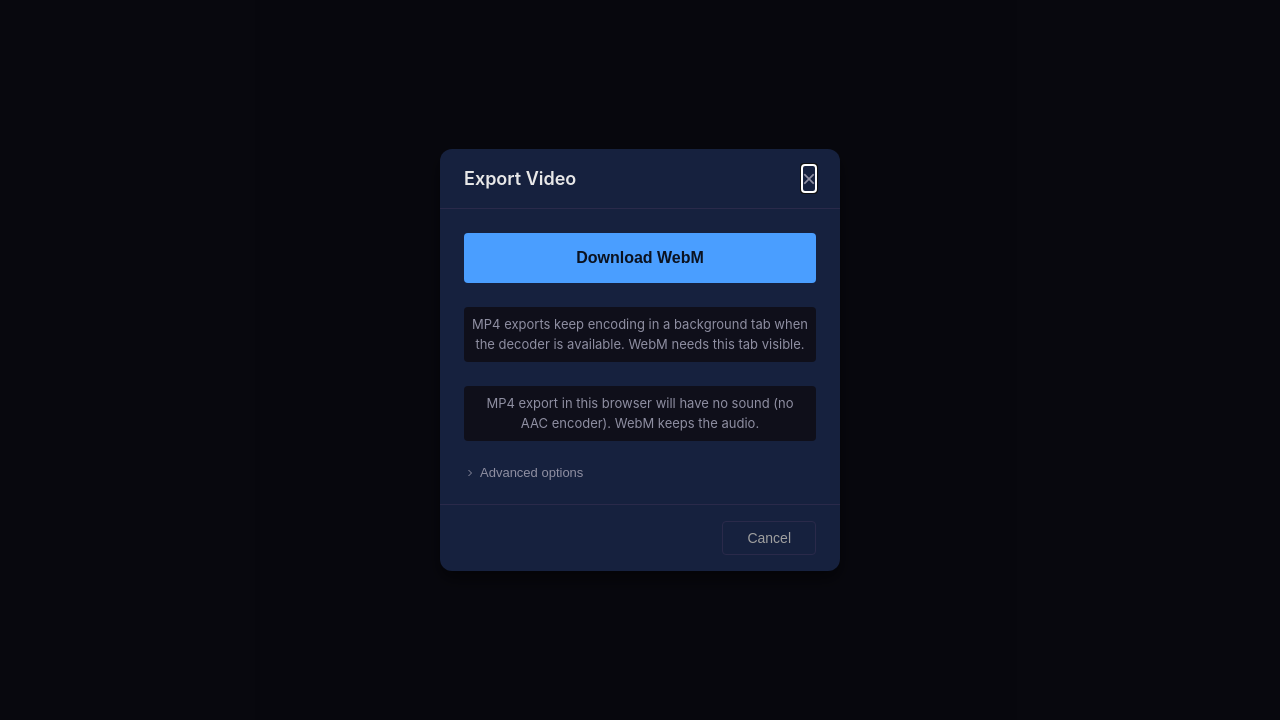
Test: ExportDialog › browser support › drops the no-sound note while GIF is selected — GIF has its own
The width and height of the screenshot is (1280, 720).
Click the button "Advanced options": (532, 472) [464,465,816,480]
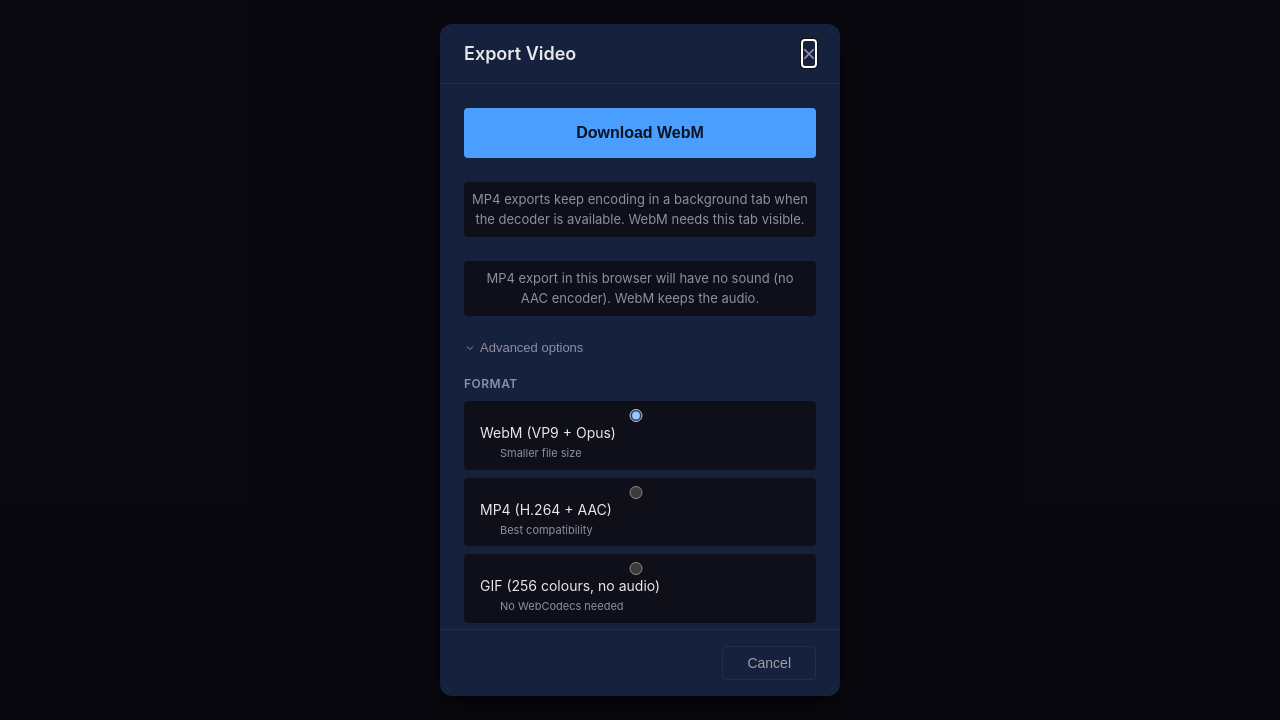
Click the radio button labelled "GIF (256 colours, no audio) No WebCodecs needed": (636, 568) [480,562,792,575]
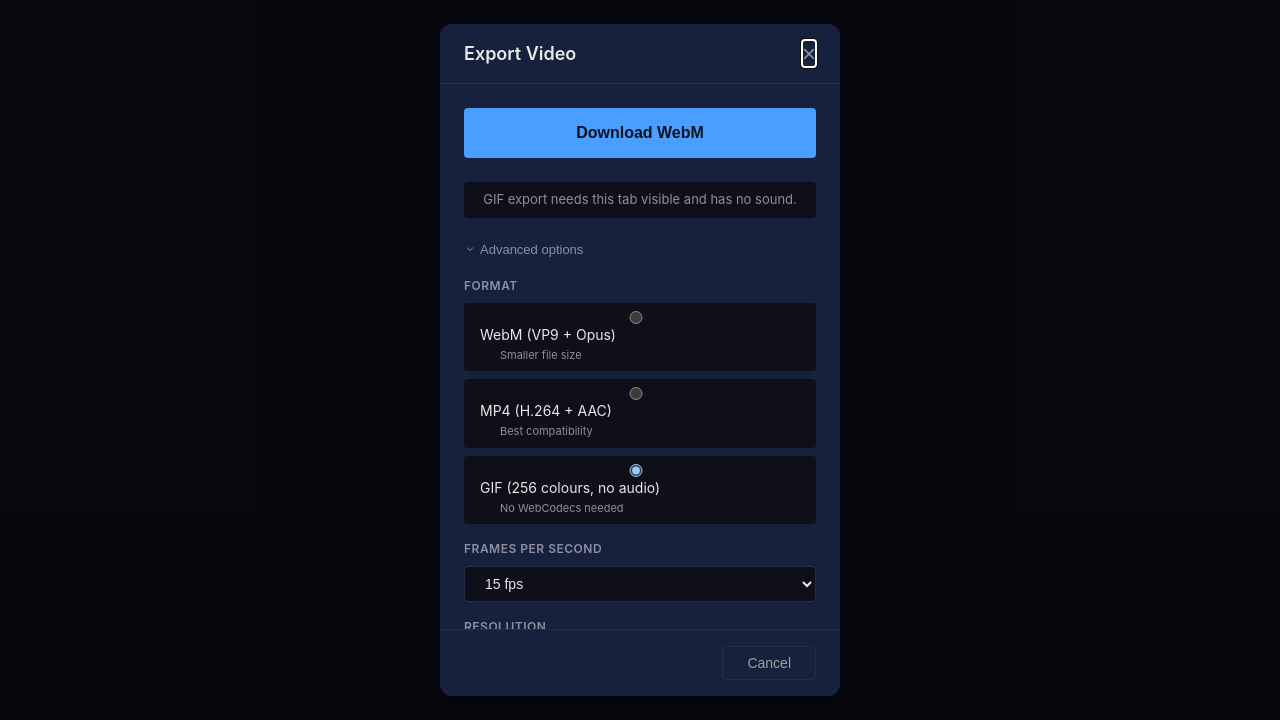
Expected: the text "GIF export needs this tab visible and has no sound." is shown, [464,182,816,218]
